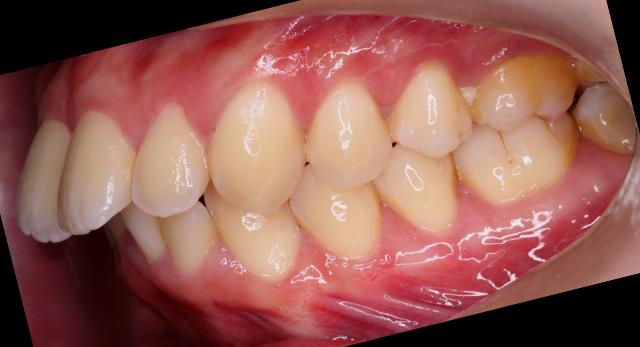canine class II 1/4: (176, 52, 397, 298)
molar class III 1/4: (432, 35, 609, 219)
